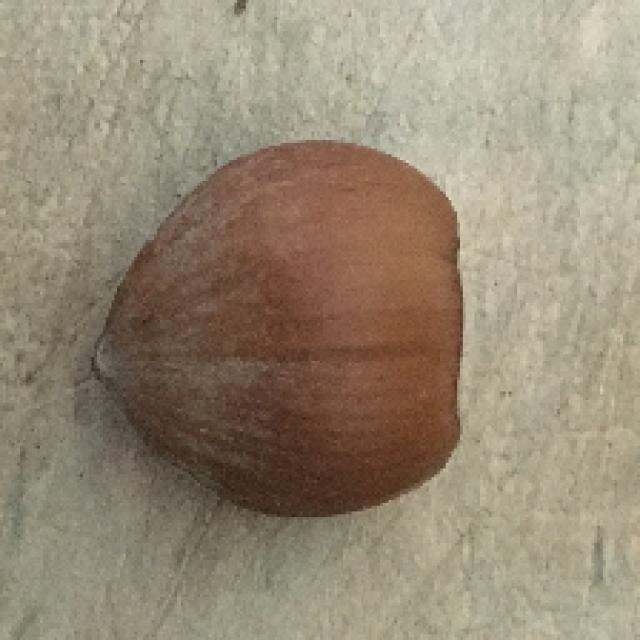qualityHazelnut: (89, 137, 479, 523)
